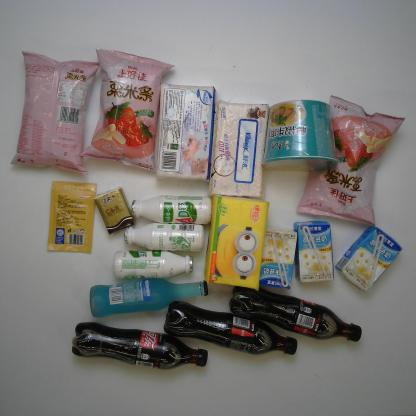Alcohol: (88, 276, 210, 319)
Drink: (162, 299, 299, 357), (226, 284, 363, 342), (69, 320, 209, 372)
Instant Noodles: (260, 98, 341, 172)
Milk: (334, 223, 405, 294), (258, 225, 298, 291), (131, 194, 213, 226), (123, 222, 205, 253), (294, 220, 334, 283), (112, 249, 194, 279)
Puffed Food: (296, 94, 408, 227), (79, 47, 175, 171), (7, 50, 101, 174)
Seasoner: (46, 180, 98, 254)
Tissue: (202, 194, 271, 291), (207, 98, 271, 201), (156, 81, 218, 183), (93, 186, 137, 236)
